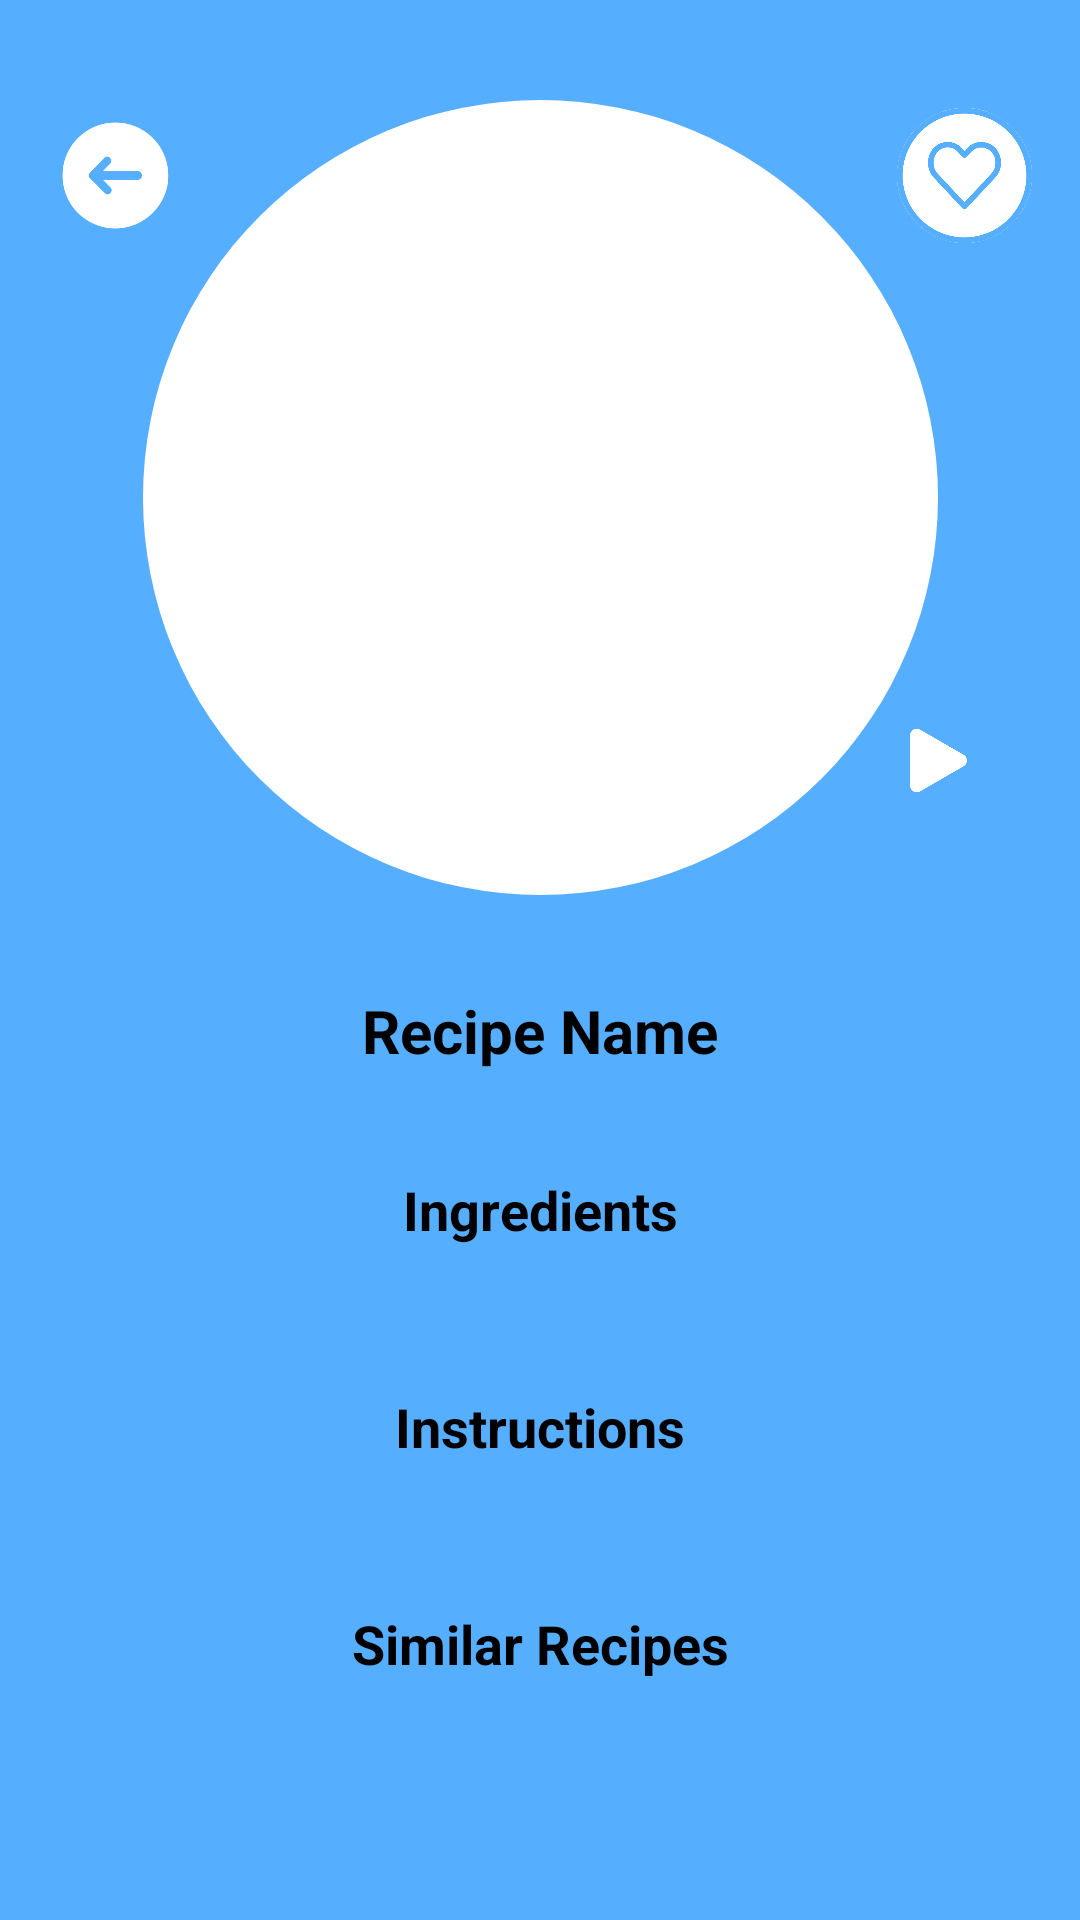

Icons on this 1080w x 1920h Android screen, each with the point to tap as (x=x, y=y):
back arrow: (x=115, y=175)
heart: (x=964, y=175)
play: (x=938, y=760)
